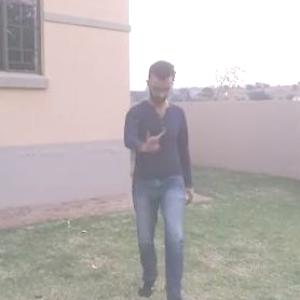takeoff-hand: (136, 121, 163, 155)
